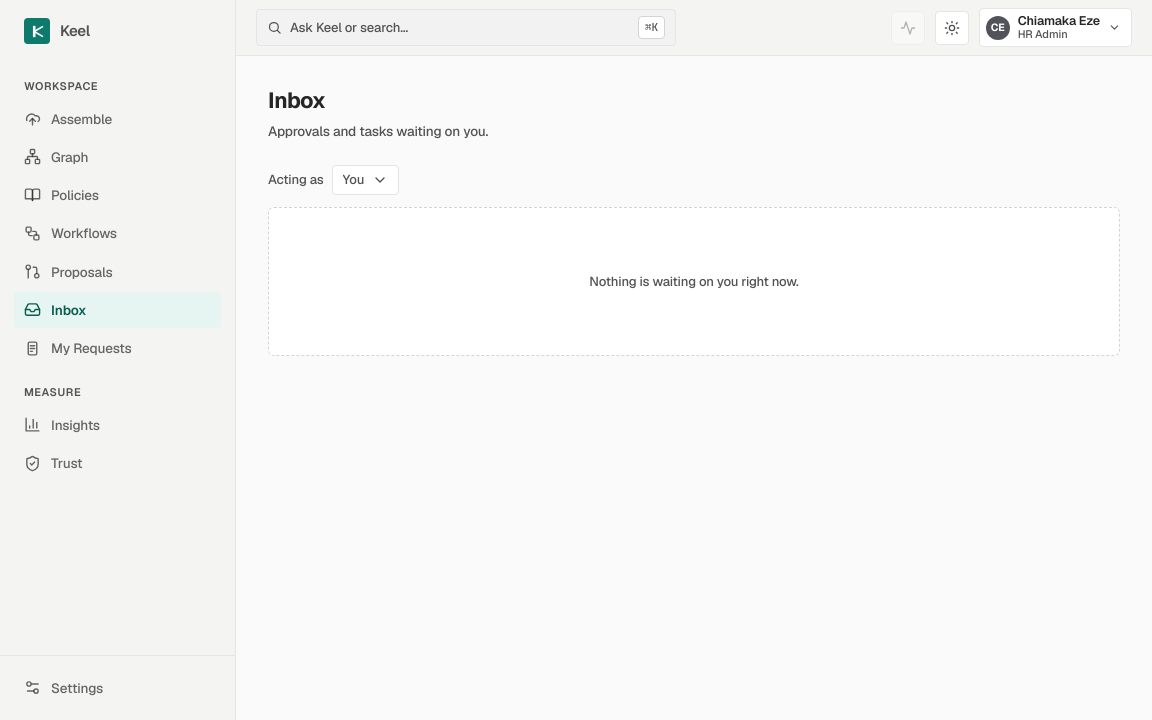
Test: /inbox › as an hr_admin › can switch to Everyone to see every assigned step, including ones not assigned to them
Click the dropdown named "Acting as" at [365, 180], box 332,165 -> 399,195
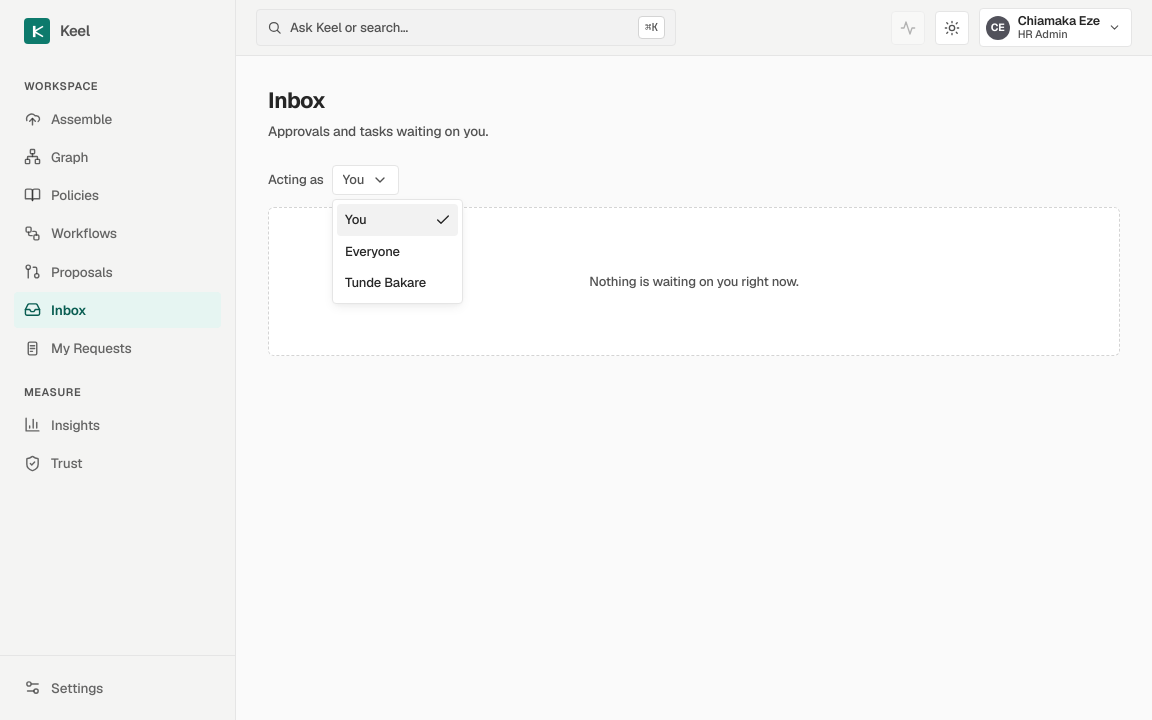
Click the option "Everyone" at [372, 251], box 345,242 -> 400,260
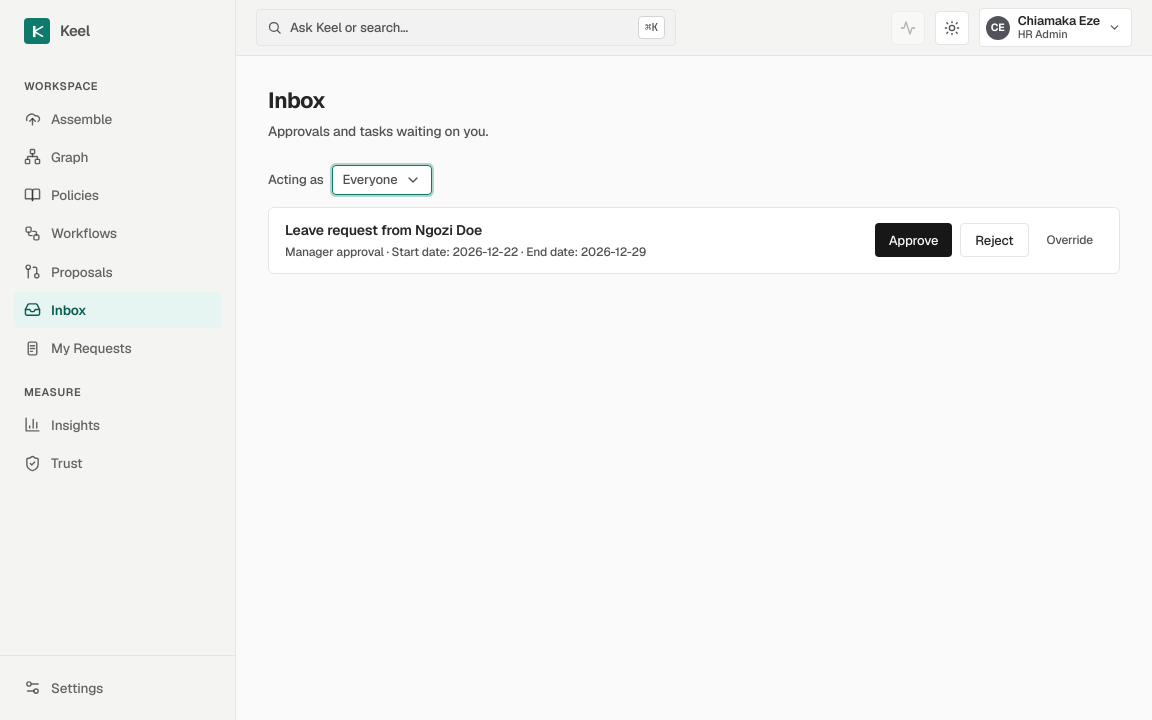
Now the text "Leave request from Ngozi Doe" is shown once, box 285,221 -> 482,239
